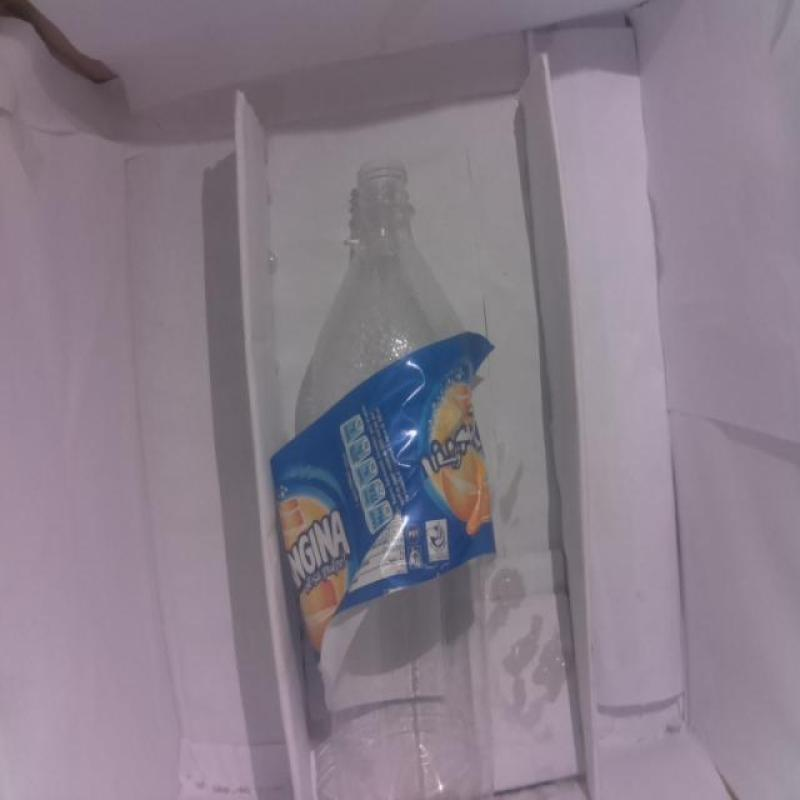botella: (296, 157, 485, 800)
